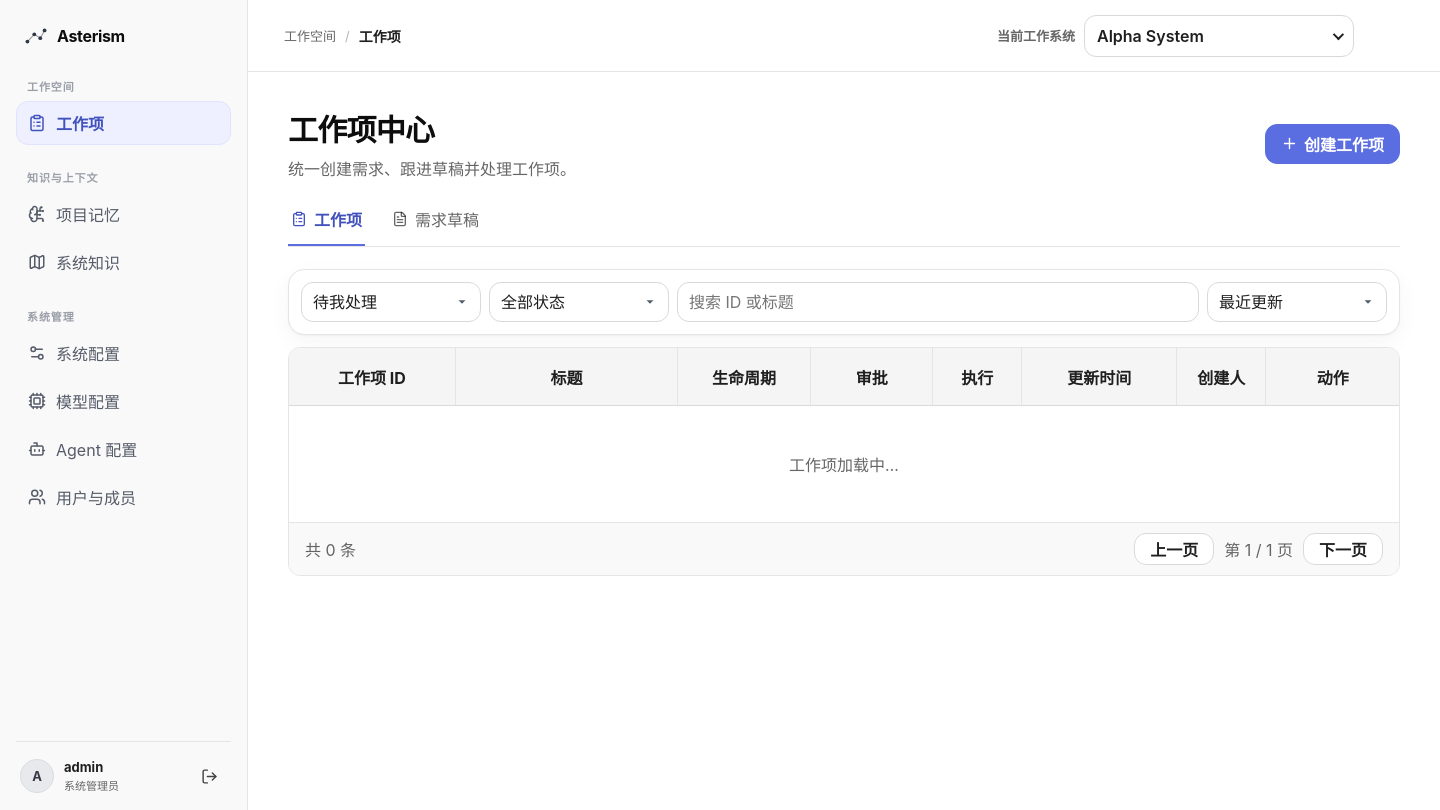
logout immediately returns to login page
Click the button named "退出登录" at point(209, 776), box [191, 758, 227, 794]
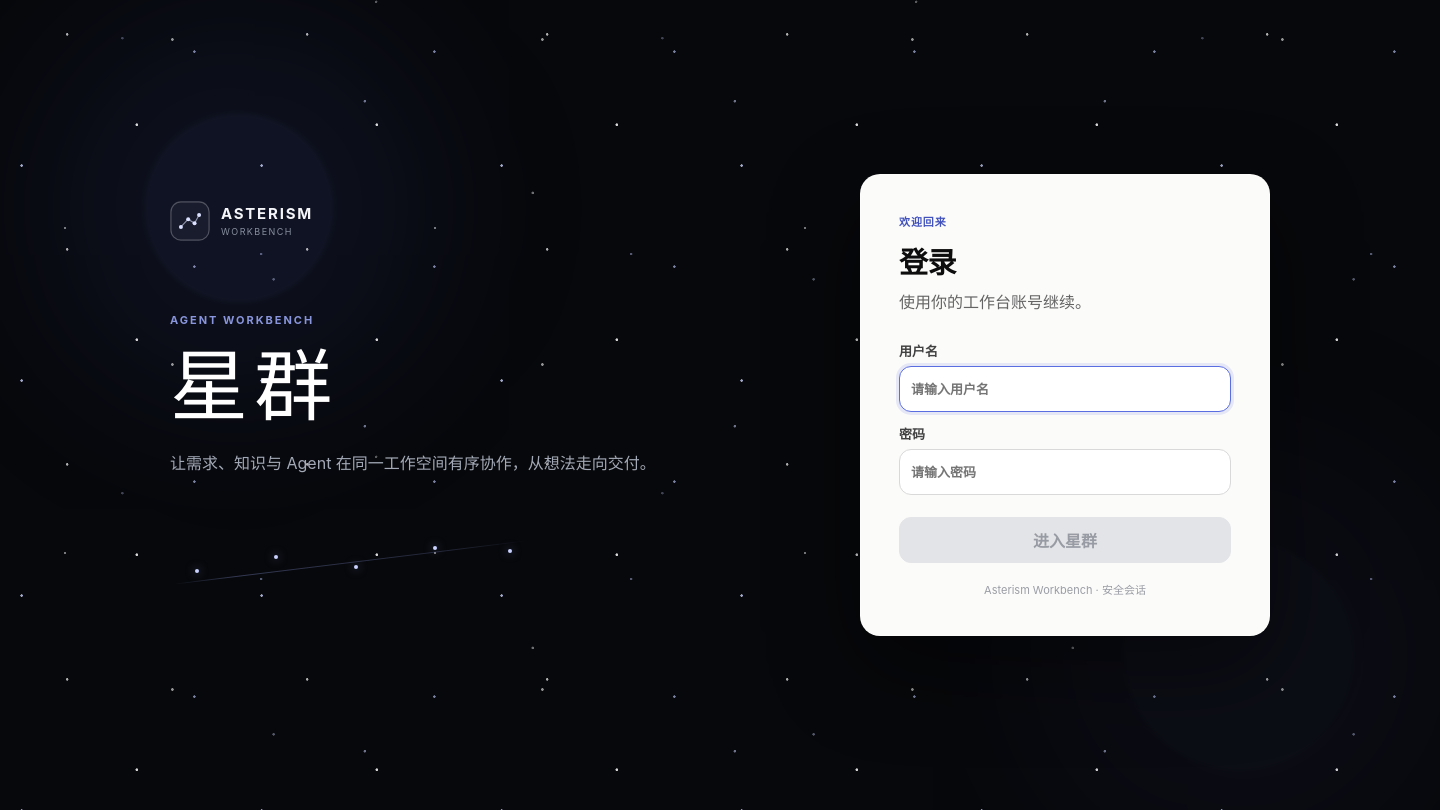
Now the heading "登录" is shown, box [899, 245, 956, 280]
